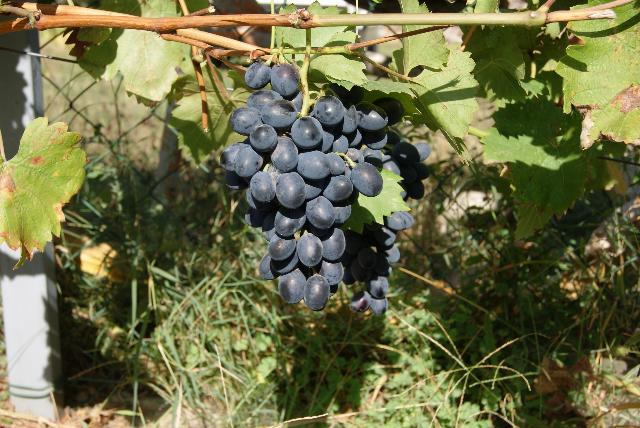grapes: (221, 61, 388, 310)
